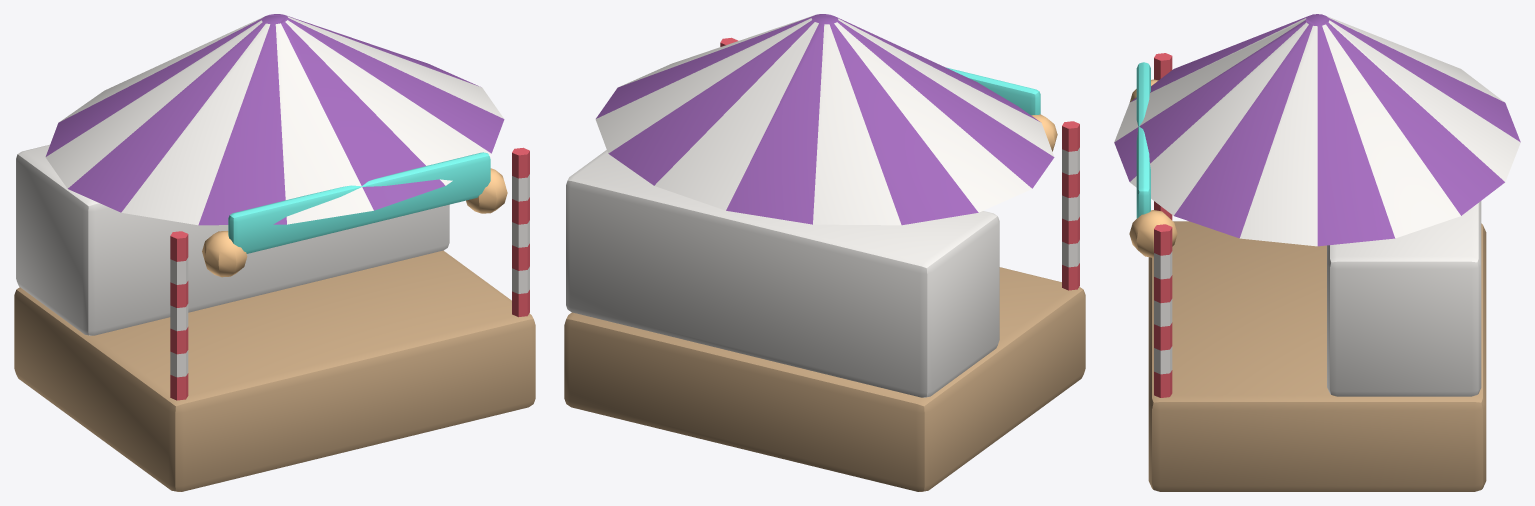
Rendered from Booth_Neon_B.fbx.
3 views of the same model, side by side, from view 1: azimuth 30°, elevation 25°; view 2: azimuth 150°, elevation 25°; view 3: azimuth 270°, elevation 25° (orthographic). The views are drawn at different scales.
Parts seen in each view (by area): view 1: Booth_Neon_B; view 2: Booth_Neon_B; view 3: Booth_Neon_B.
Part boxes in pixels (x1,y1,x2,y2): Booth_Neon_B: (14, 14, 535, 491); Booth_Neon_B: (564, 14, 1085, 491); Booth_Neon_B: (1114, 14, 1520, 491).
Bounding box in the file's own units: 5.1 × 4.4 × 4.22.
